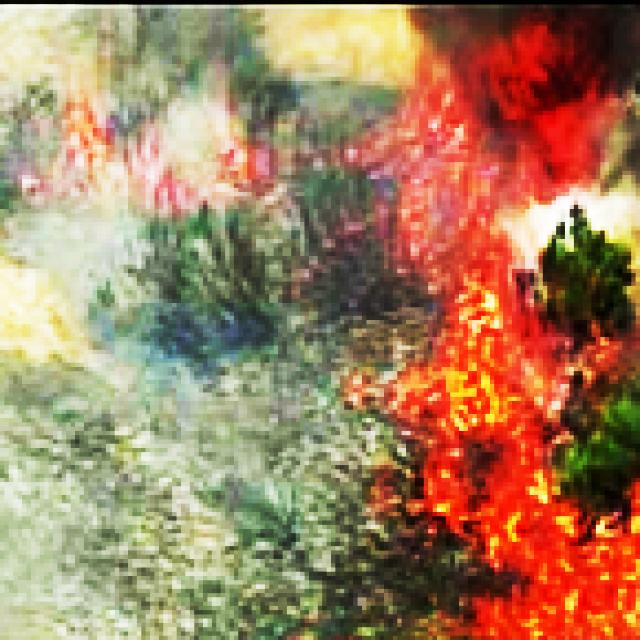api: (345, 261, 640, 640), (343, 25, 524, 261), (483, 1, 631, 224)
asap: (1, 1, 475, 640)
